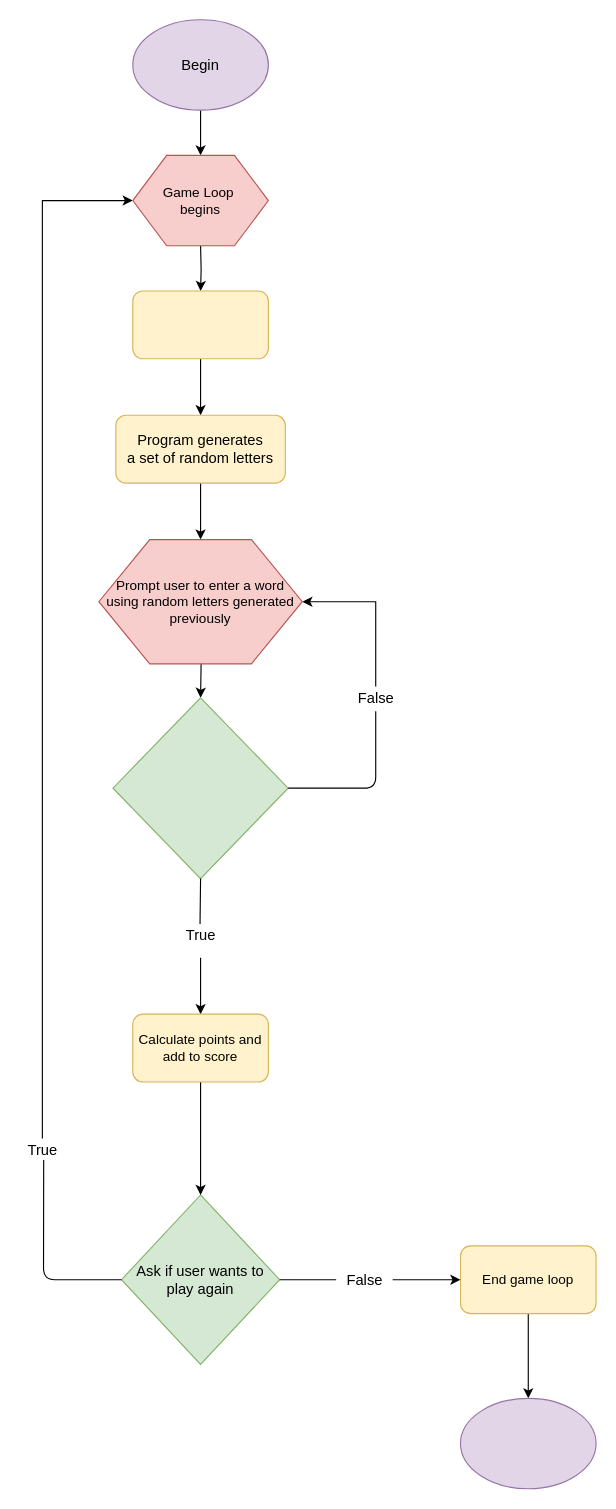
Image size: 616x1509. Some labels were removed from this diagram. Each missing label, with the centre of its shape:
End: (527,1443)
If letters input match with randomized letters: (200,788)
Prompt user to enter amount of letters to play with: (200,324)
